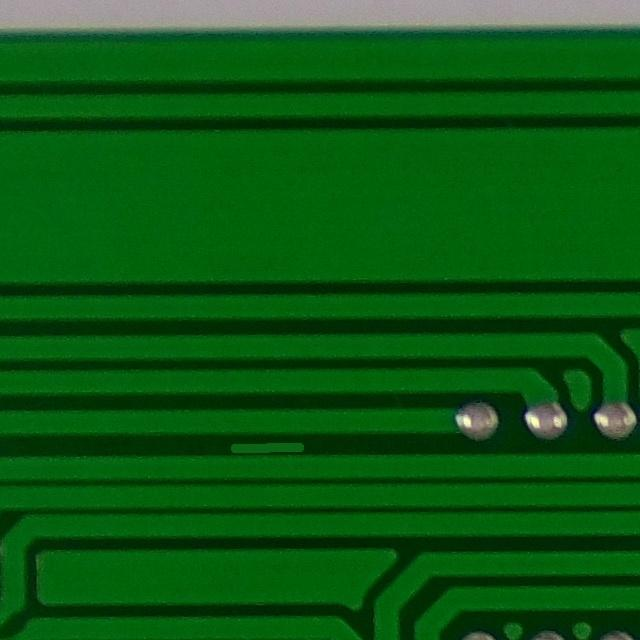spurious_copper: (219, 429, 313, 461)
